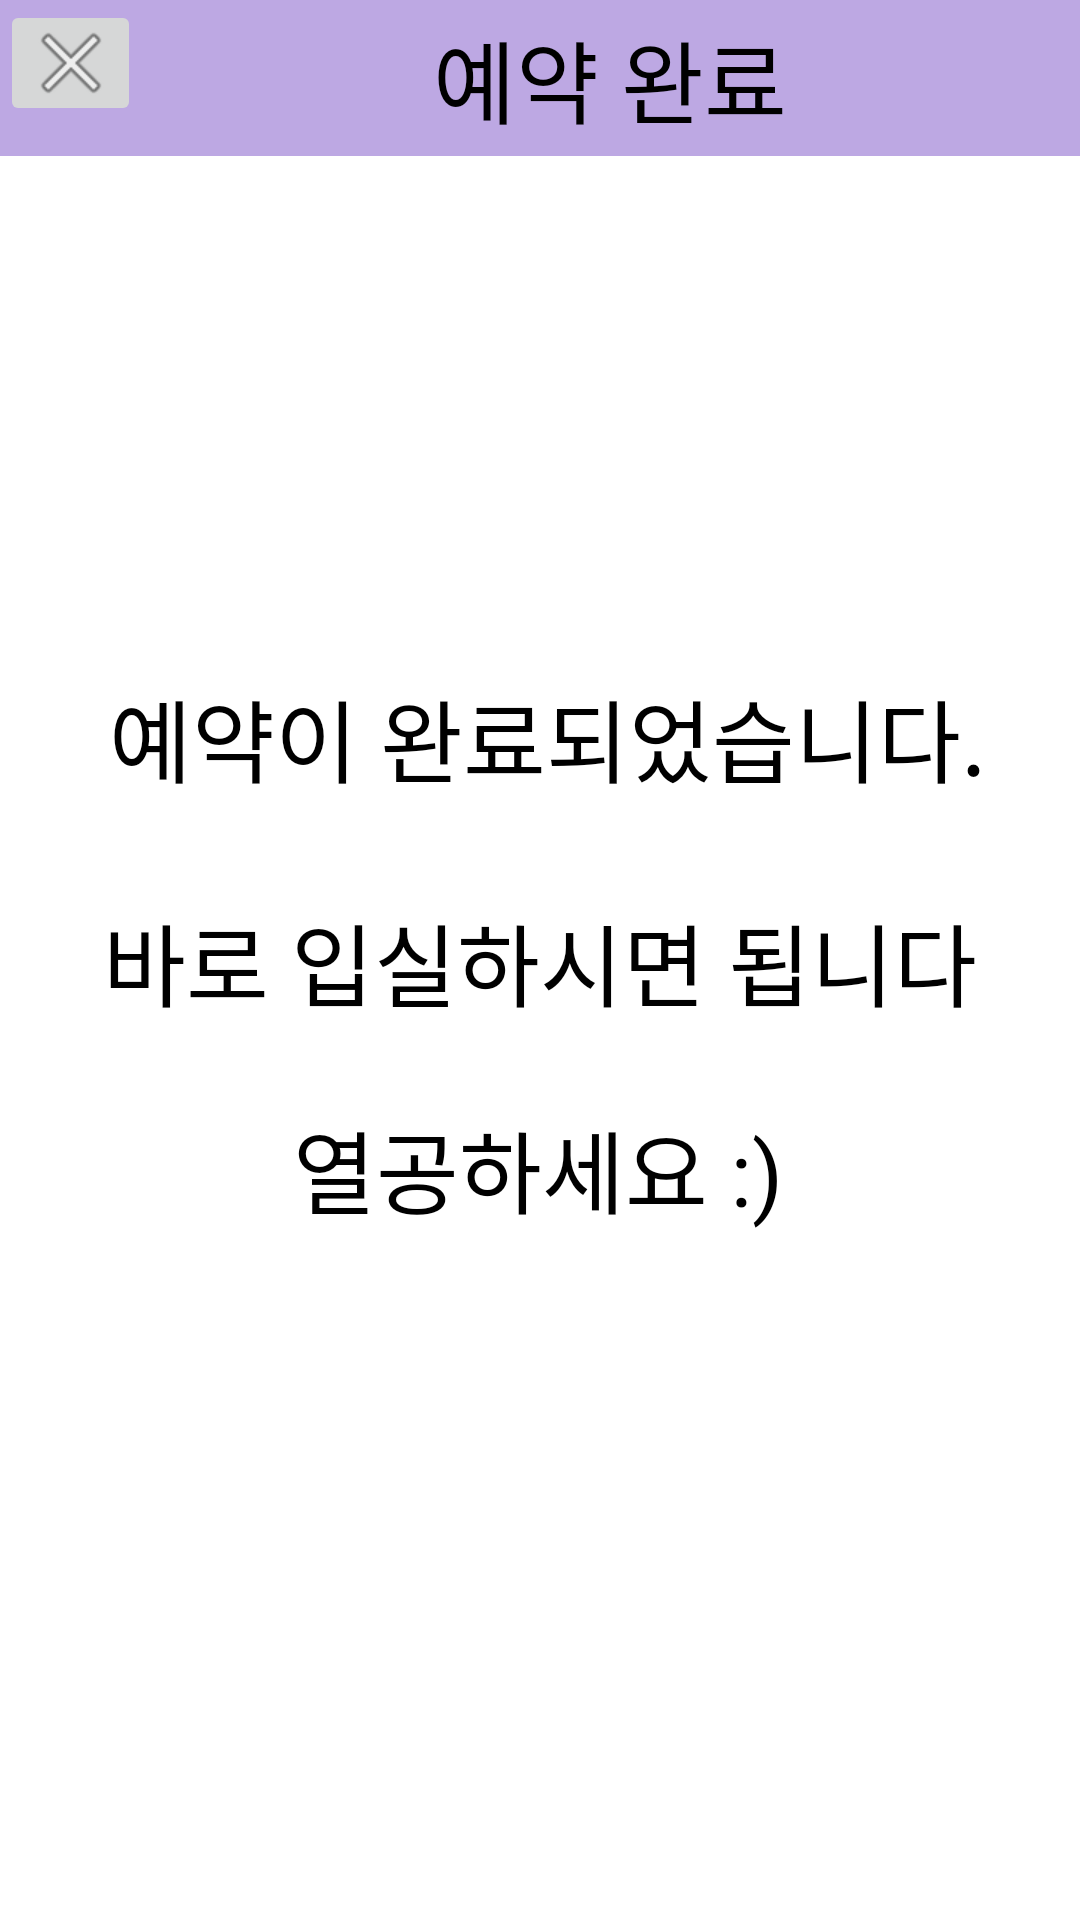

Screen size 1080px x 1920px. Icon name, then its center in pixels as (x=x, y=y):
close clear cancel: (x=70, y=63)
